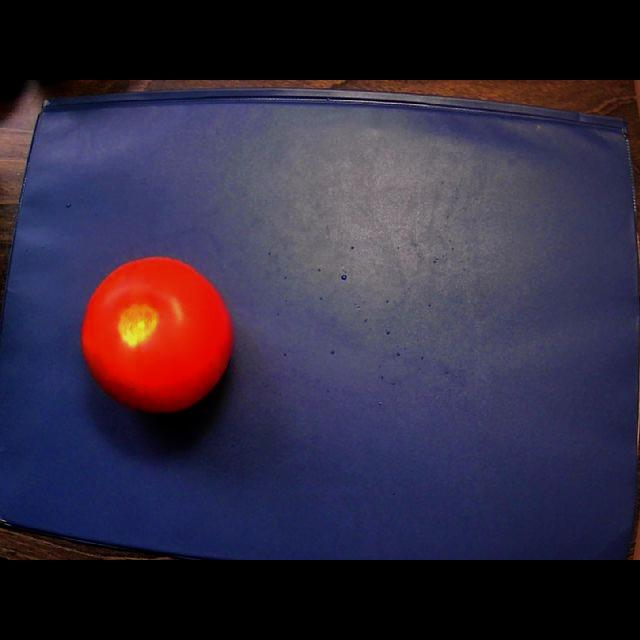tomate: (82, 257, 232, 412)
